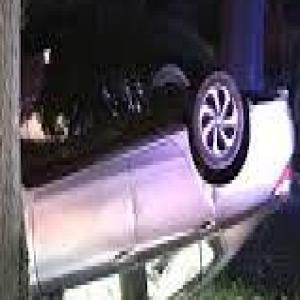serious: (0, 26, 294, 300)
